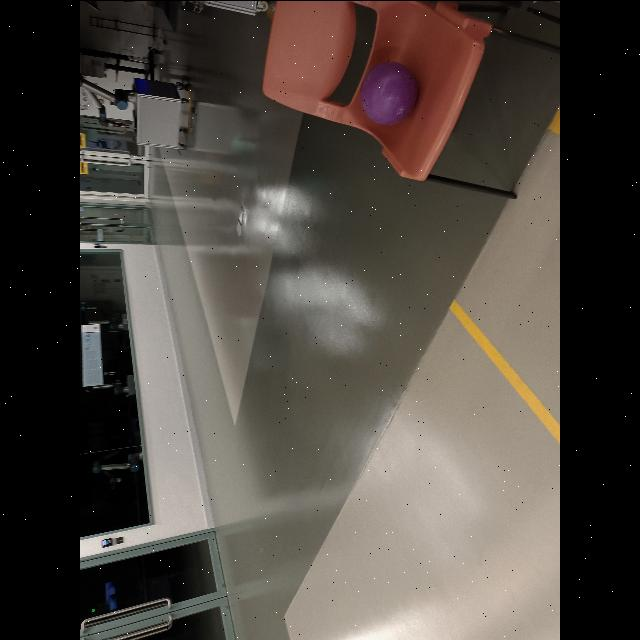P: (363, 61, 419, 125)
